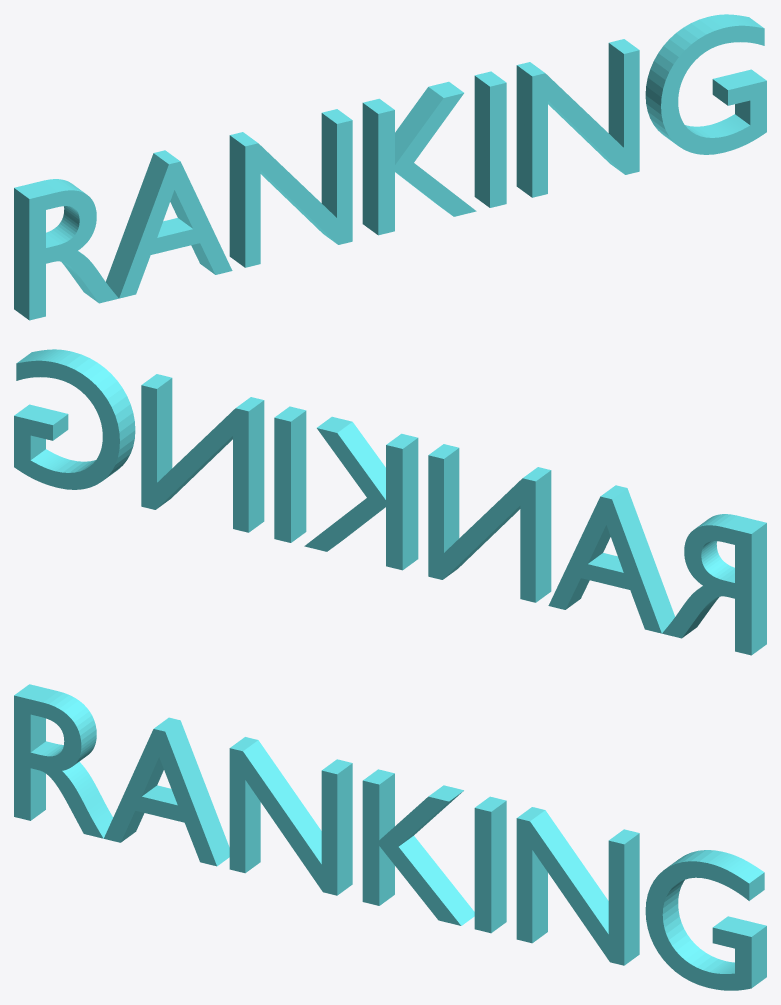
The model's file is Ranking.obj.
The picture shows the model from 3 angles, top to bottom: view 1: azimuth 30°, elevation 25°; view 2: azimuth 150°, elevation 25°; view 3: azimuth 330°, elevation 25°; orthographic projection.
Parts seen in each view (by area): view 1: テキスト; view 2: テキスト; view 3: テキスト.
Part boxes in pixels (x1=…): テキスト: x1=14, y1=14, x2=766, y2=320; テキスト: x1=14, y1=349, x2=766, y2=655; テキスト: x1=14, y1=684, x2=766, y2=990.
Bounding box in the file's own units: 4.34 × 0.7 × 0.1571.
1 material, 1 textured.
